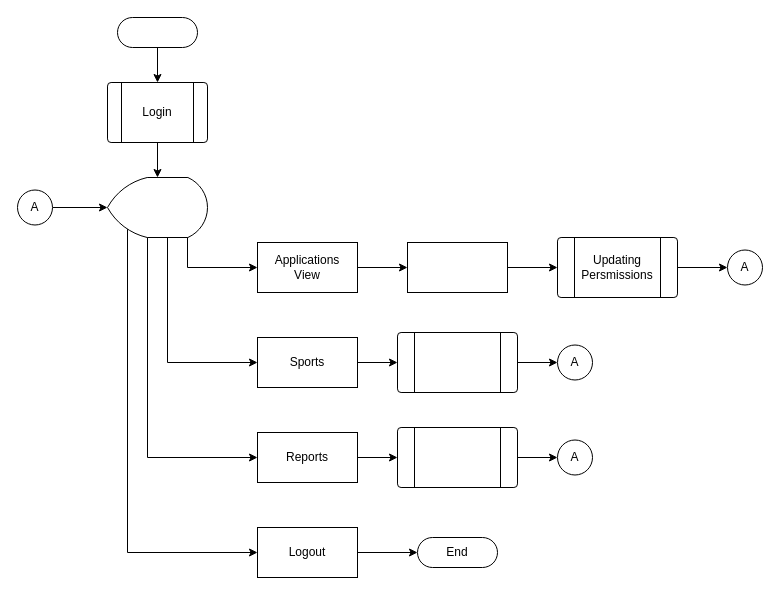
This 780x595 diagram has some shape labels left out. The centre of each missing label's shape, as x and y in pixels:
"Answer Reports" belongs at [457,457].
"Dashboard" belongs at [157,207].
"Filtering For Approval" belongs at [457,267].
"Manage Sports" belongs at [457,362].
"Start" belongs at [157,32].
